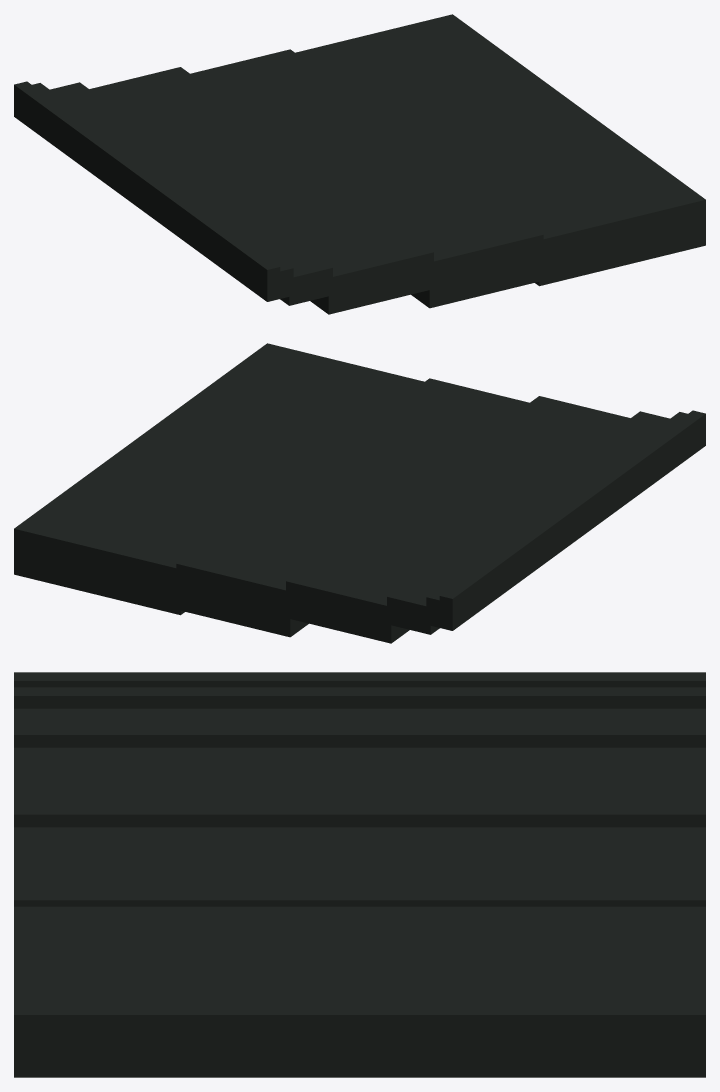
Rendered from Floor_OuterCurved_00.fbx.
The picture shows the model from 3 angles, top to bottom: view 1: azimuth 30°, elevation 25°; view 2: azimuth 150°, elevation 25°; view 3: azimuth 270°, elevation 25°; orthographic projection. The views are drawn at different scales.
Visible parts, largest first — view 1: Floor_OuterCurved_00; view 2: Floor_OuterCurved_00; view 3: Floor_OuterCurved_00.
Part boxes in pixels (<box>): Floor_OuterCurved_00: <box>14,14,705,314</box>; Floor_OuterCurved_00: <box>14,343,705,643</box>; Floor_OuterCurved_00: <box>14,672,705,1077</box>.
Bounding box in the file's own units: 500 × 90 × 500.
